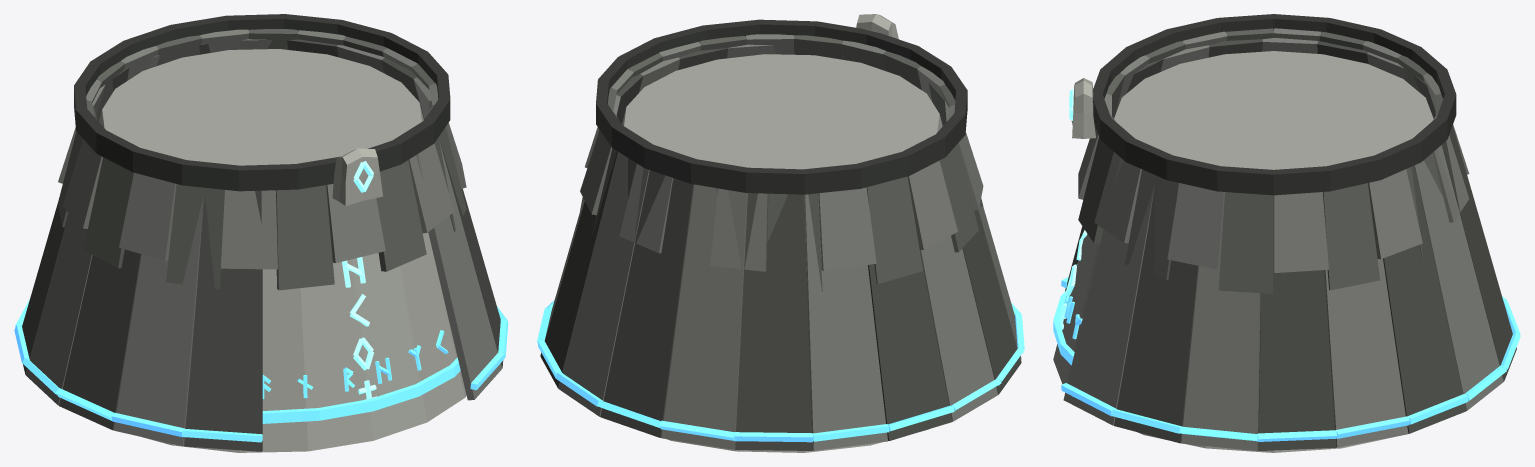
File: orla_gown.glb
The picture shows the model from 3 angles, left to right: view 1: azimuth 30°, elevation 25°; view 2: azimuth 150°, elevation 25°; view 3: azimuth 270°, elevation 25°; orthographic projection.
Parts seen in each view (by area): view 1: orla_gown; view 2: orla_gown; view 3: orla_gown.
Part boxes in pixels (bbox=[...]): orla_gown: bbox=[14, 14, 508, 452]; orla_gown: bbox=[537, 14, 1024, 452]; orla_gown: bbox=[1053, 14, 1520, 452].
Bounding box in the file's own units: 1.3 × 0.81 × 1.23.
